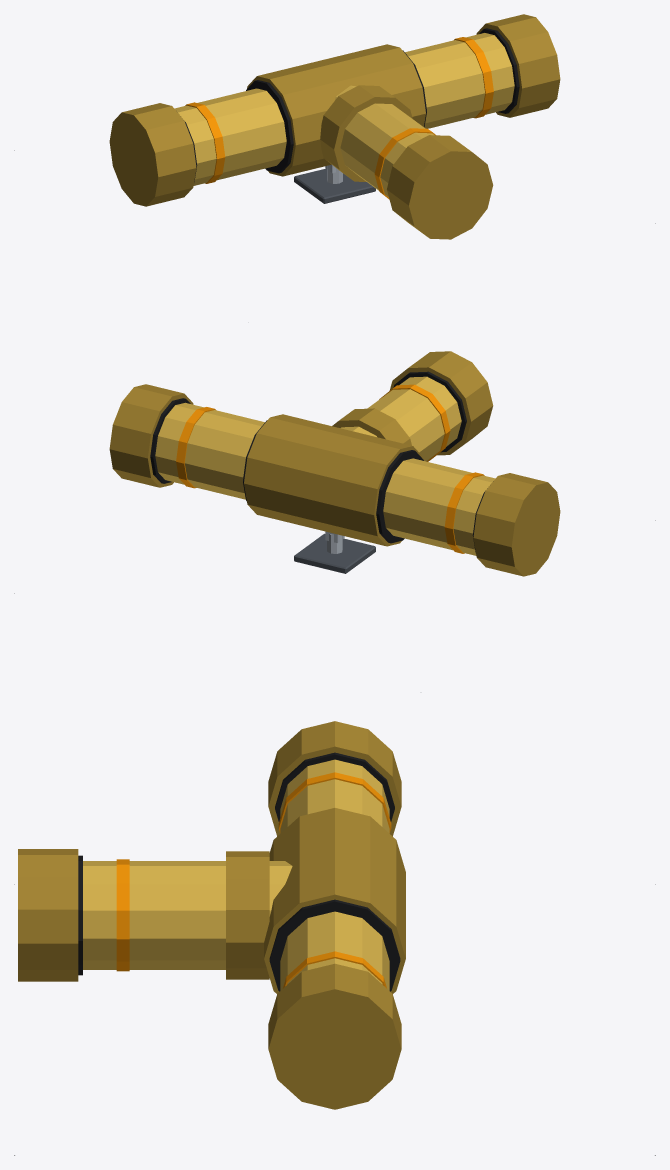
The model's file is tuyau_te_t2.glb.
The picture shows the model from 3 angles, top to bottom: view 1: azimuth 30°, elevation 25°; view 2: azimuth 150°, elevation 25°; view 3: azimuth 270°, elevation 25°; orthographic projection. The views are drawn at different scales.
Visible parts, largest first — view 1: pieces_laiton_sombre.014, pieces_laiton.014, pieces_rive_t2.016, pieces_noir.022, pieces_acier_sombre.050; view 2: pieces_laiton_sombre.014, pieces_laiton.014, pieces_noir.022, pieces_rive_t2.016, pieces_acier_sombre.050; view 3: pieces_laiton_sombre.014, pieces_laiton.014, pieces_noir.022, pieces_rive_t2.016.
Boxes of the visible parts, bbox=[...] form: pieces_laiton_sombre.014: bbox=[109, 14, 560, 239]; pieces_laiton.014: bbox=[174, 33, 514, 197]; pieces_rive_t2.016: bbox=[185, 37, 493, 199]; pieces_noir.022: bbox=[184, 28, 519, 182]; pieces_acier_sombre.050: bbox=[294, 168, 375, 203]; pieces_laiton_sombre.014: bbox=[109, 351, 560, 576]; pieces_laiton.014: bbox=[155, 376, 495, 555]; pieces_noir.022: bbox=[150, 371, 493, 552]; pieces_rive_t2.016: bbox=[176, 384, 484, 553]; pieces_acier_sombre.050: bbox=[294, 533, 375, 573]; pieces_laiton_sombre.014: bbox=[18, 721, 405, 1109]; pieces_laiton.014: bbox=[83, 759, 389, 990]; pieces_noir.022: bbox=[78, 752, 400, 991]; pieces_rive_t2.016: bbox=[116, 772, 391, 988].
Size of the model in its own units: 1 by 0.2905 by 1.
